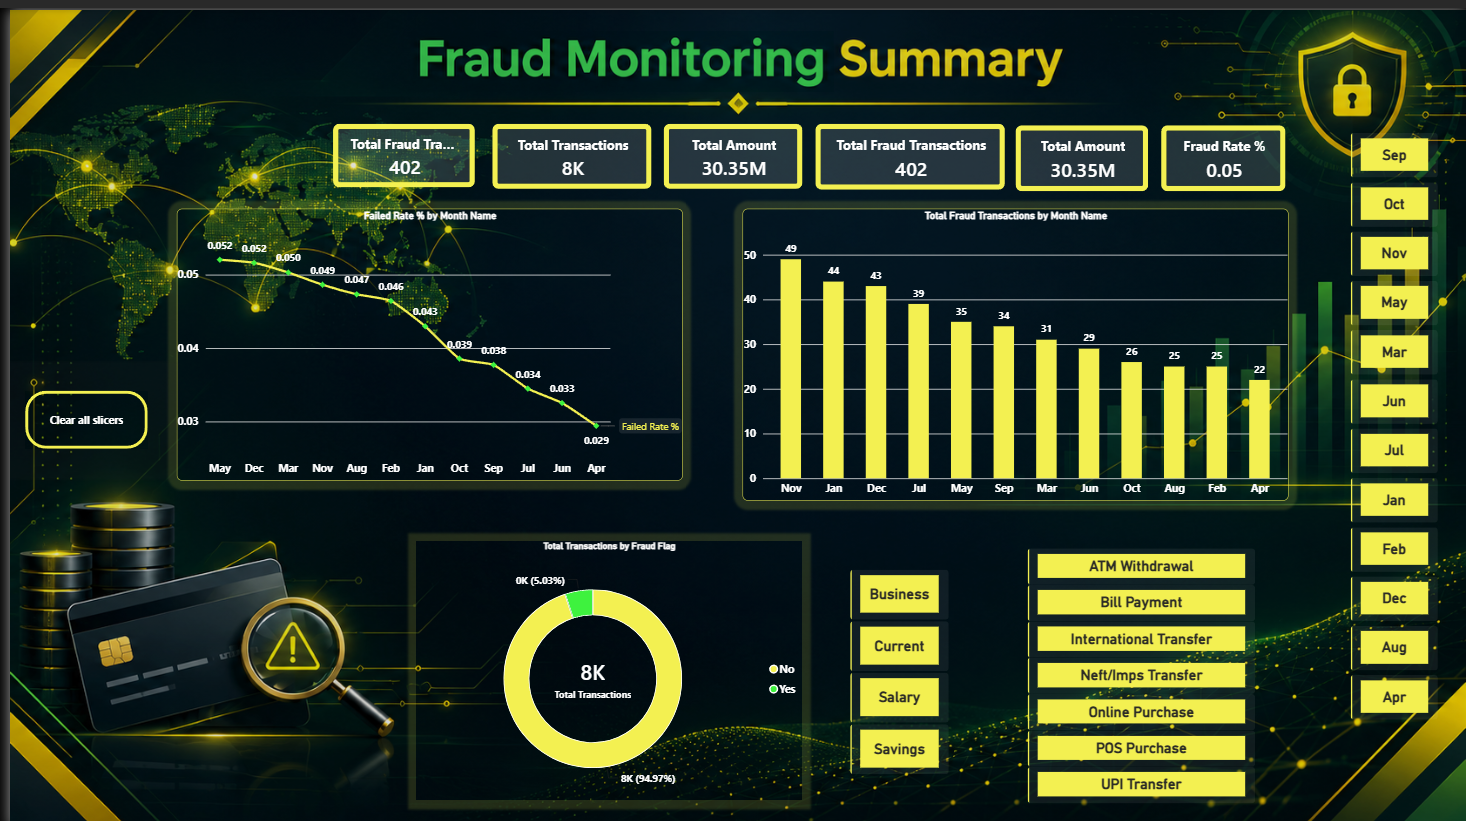

The dashboard page shown, as its layout file describes it:
{"tool":"powerbi","page":{"name":"Fraud Monitoring  Summary","canvas":[1920,1080],"ordinal":0},"visuals":[{"type":"cardVisual","fields":{"Data":["Transactions.Total Transactions"]},"box":[636.7,150,210,86.7],"z":0},{"type":"cardVisual","fields":{"Data":["Transactions.Total Amount"]},"box":[861.7,150,183.3,86.7],"z":1000},{"type":"cardVisual","fields":{"Data":["Transactions.Total Fraud Transactions"]},"box":[1061.4,150,250,87.1],"z":2000},{"type":"cardVisual","fields":{"Data":["Transactions.Total Amount"]},"box":[1325.7,151.4,175.7,87.1],"z":3000},{"type":"cardVisual","fields":{"Data":["Transactions.Total Fraud Transactions"]},"box":[425.7,150,187.1,84.3],"z":4000},{"type":"cardVisual","fields":{"Data":["Transactions.Fraud Rate %"]},"box":[1518.6,151.4,164.3,87.1],"z":5000},{"type":"lineChart","fields":{"Category":["Date Table.Month Name"],"Y":["Transactions.Failed Rate %"]},"box":[220,262.5,667.1,358.6],"z":6000},{"type":"clusteredColumnChart","fields":{"Category":["Date Table.Month Name"],"Y":["Transactions.Total Fraud Transactions"]},"box":[965,262.5,720,385],"z":7000},{"type":"donutChart","fields":{"Category":["Transactions.Fraud Flag"],"Y":["Transactions.Total Transactions"]},"box":[535,700,509,342],"z":8000},{"type":"advancedSlicerVisual","fields":{"Values":["Date Table.Month Name"]},"box":[1768.6,162.9,115.7,785.7],"z":9000},{"type":"advancedSlicerVisual","fields":{"Values":["Transactions.Account Type"]},"box":[1108.6,737.1,130,270],"z":10000},{"type":"advancedSlicerVisual","fields":{"Values":["Transactions.Transaction Type"]},"box":[1341.4,710,300,337.1],"z":11000},{"type":"actionButton","box":[20,501.7,161.7,76.7],"z":12000}]}

Visuals, with their boxes in screenshot pixels (x1, y1, x2, y2), scaled from the page's 1920x1080 canvas onto the 1466x821 screenshot:
cardVisual - Transactions.Total Transactions: locate(486, 114, 646, 180)
cardVisual - Transactions.Total Amount: locate(658, 114, 798, 180)
cardVisual - Transactions.Total Fraud Transactions: locate(810, 114, 1001, 180)
cardVisual - Transactions.Total Amount: locate(1012, 115, 1146, 181)
cardVisual - Transactions.Total Fraud Transactions: locate(325, 114, 468, 178)
cardVisual - Transactions.Fraud Rate %: locate(1160, 115, 1285, 181)
lineChart - Date Table.Month Name x Transactions.Failed Rate %: locate(168, 200, 677, 472)
clusteredColumnChart - Date Table.Month Name x Transactions.Total Fraud Transactions: locate(737, 200, 1287, 492)
donutChart - Transactions.Fraud Flag x Transactions.Total Transactions: locate(408, 532, 797, 792)
advancedSlicerVisual - Date Table.Month Name: locate(1350, 124, 1439, 721)
advancedSlicerVisual - Transactions.Account Type: locate(846, 560, 946, 766)
advancedSlicerVisual - Transactions.Transaction Type: locate(1024, 540, 1253, 796)
actionButton: locate(15, 381, 139, 440)
